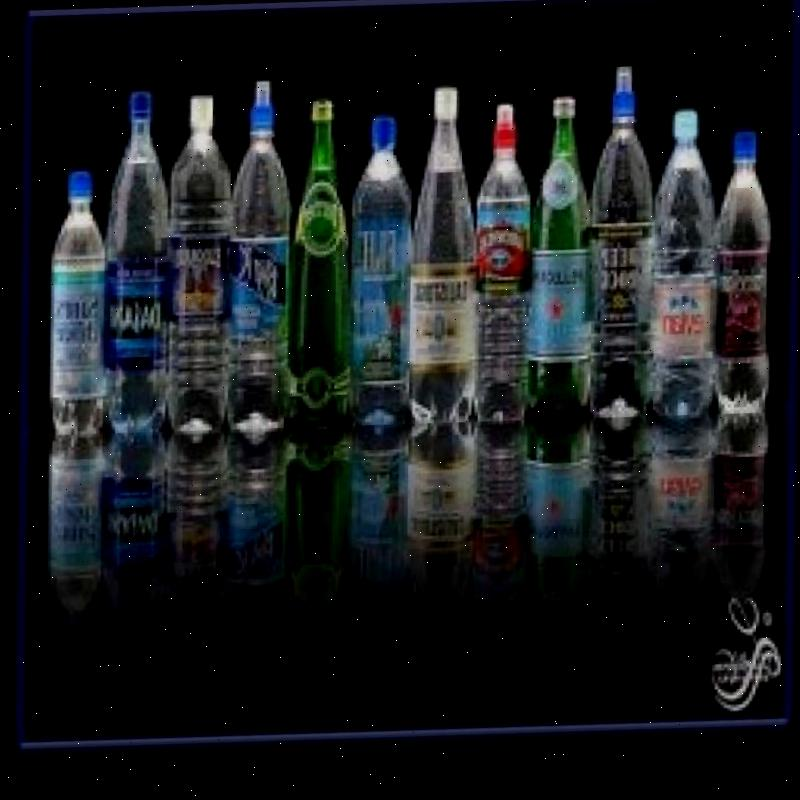botella: (577, 67, 663, 435), (215, 79, 300, 447), (93, 91, 177, 441), (401, 87, 485, 432), (158, 93, 238, 443), (644, 114, 726, 436), (342, 120, 419, 436), (468, 104, 538, 432), (41, 169, 114, 444), (709, 139, 778, 426)
